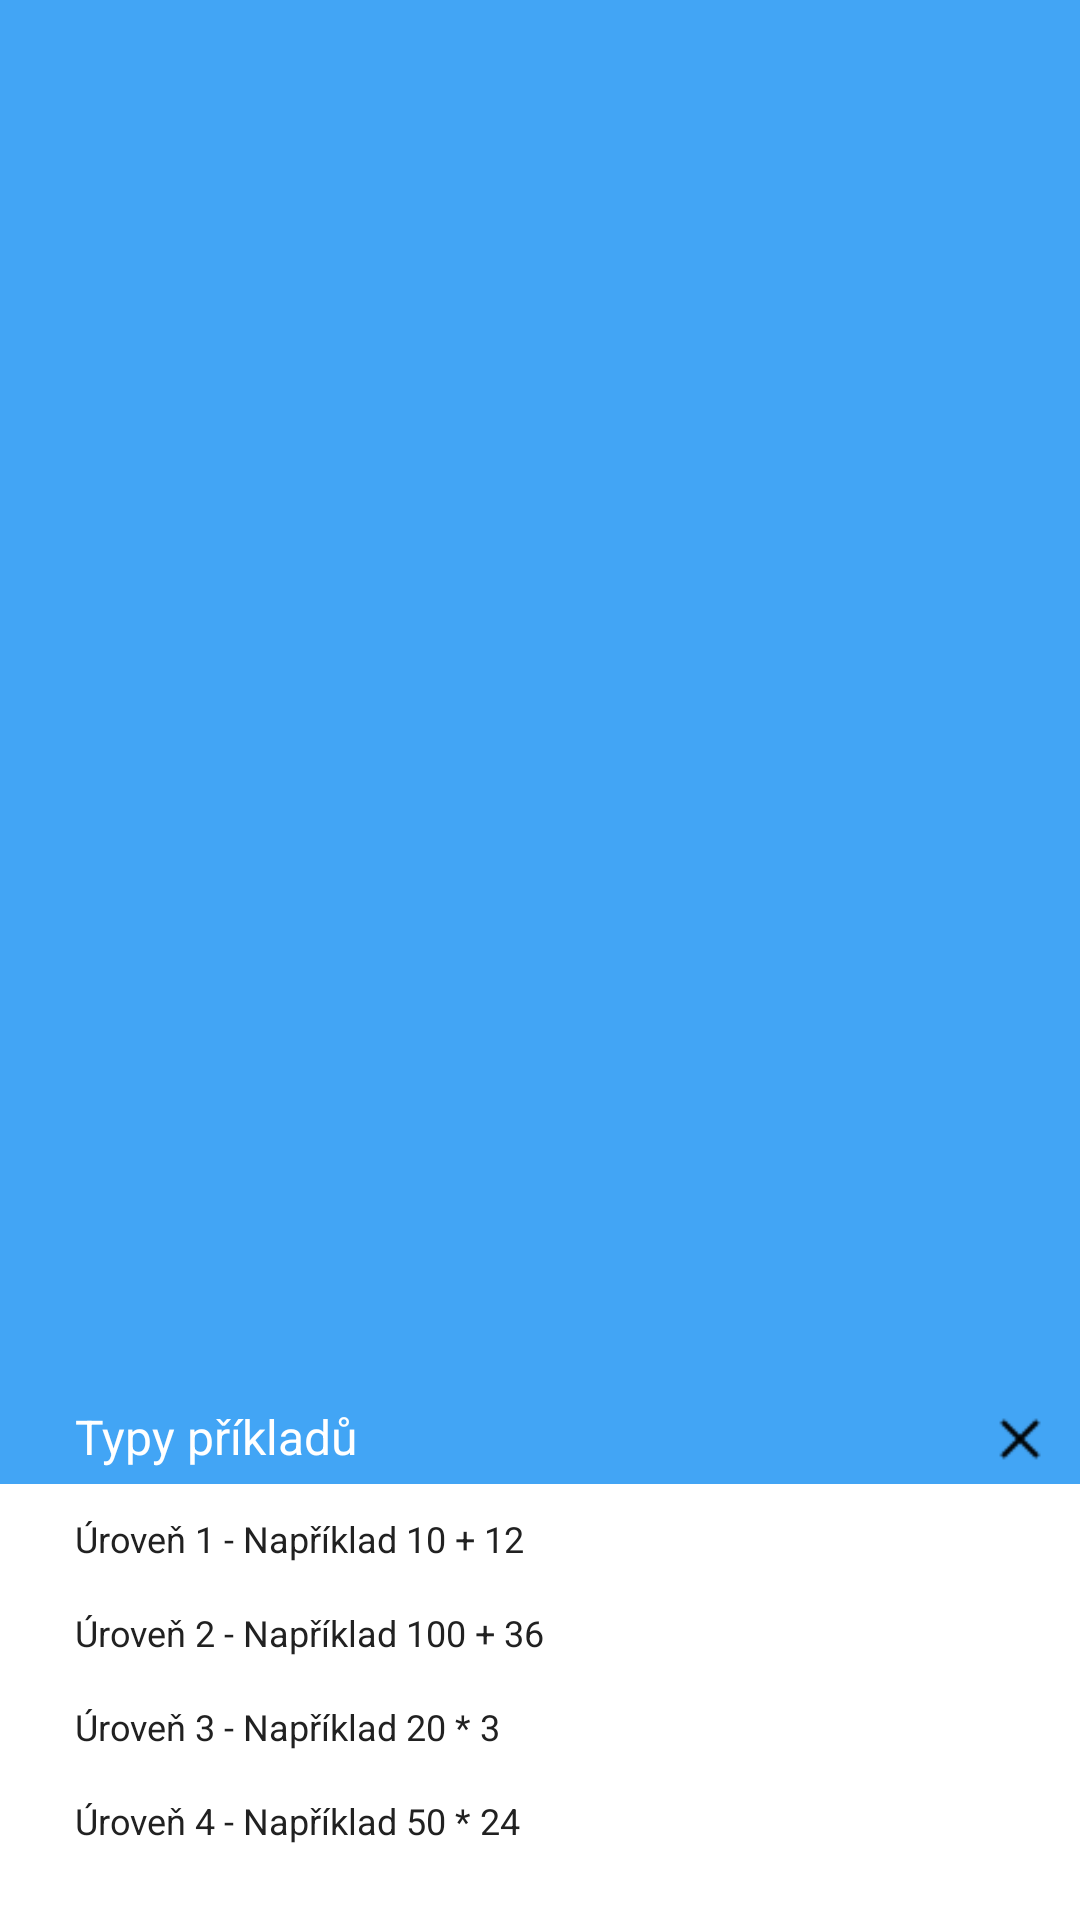

Icons on this 1080px x 1920px Android screen, each with the point to tap as (x,y):
cross: (1020,1439)
